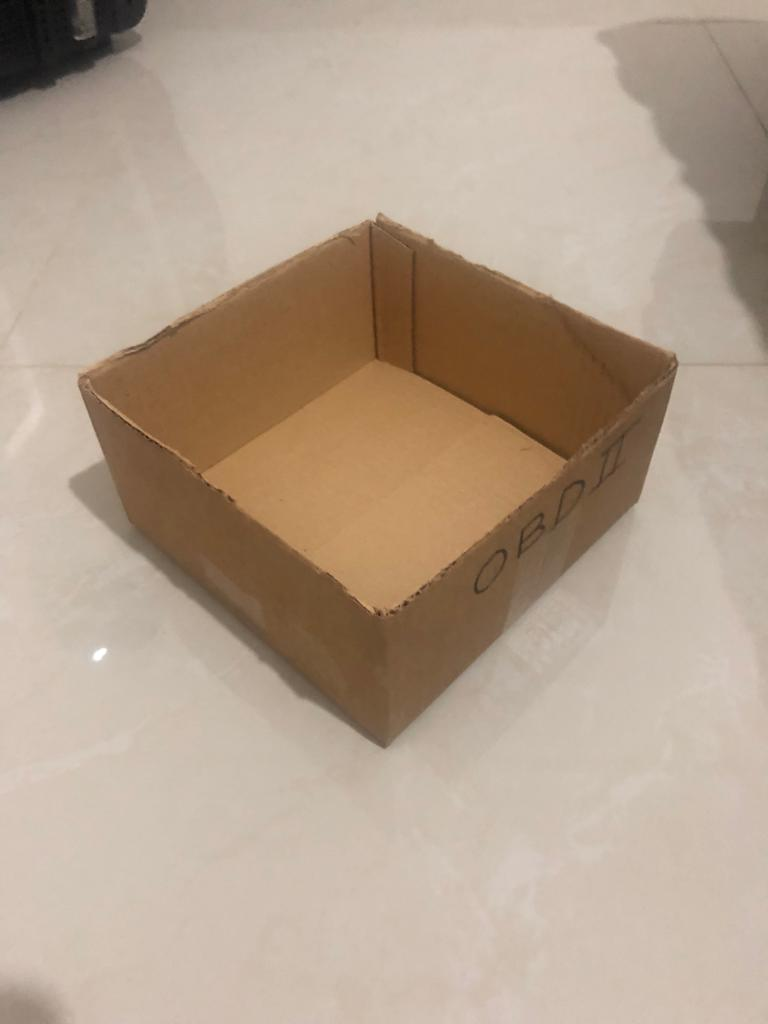CBox: (79, 207, 685, 753)
